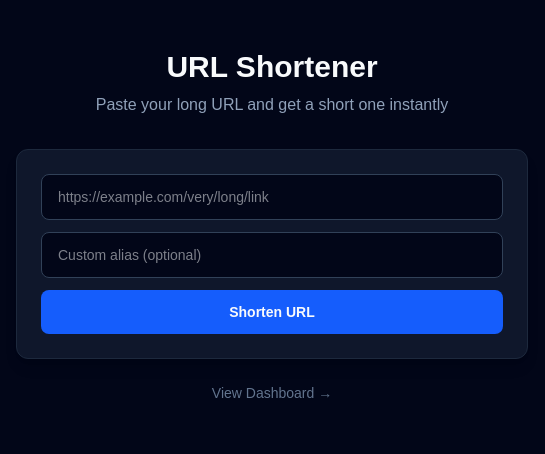
Home page form › shows the short URL after successful submission
Type "https://example.com" into the field with placeholder "https://example.com/very/long/link" at [272, 197], box [41,174,503,220]
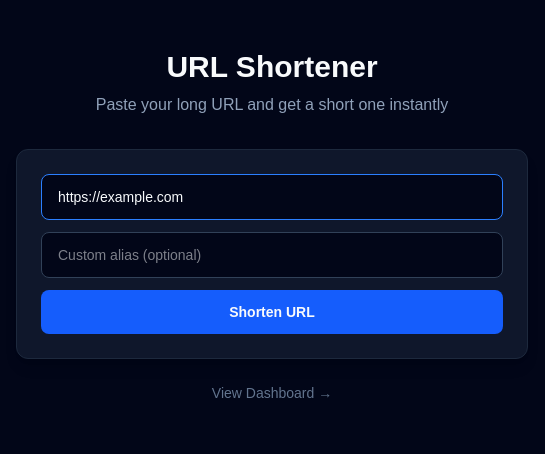
Click the button "Shorten URL" at [272, 312], box [41,290,503,334]
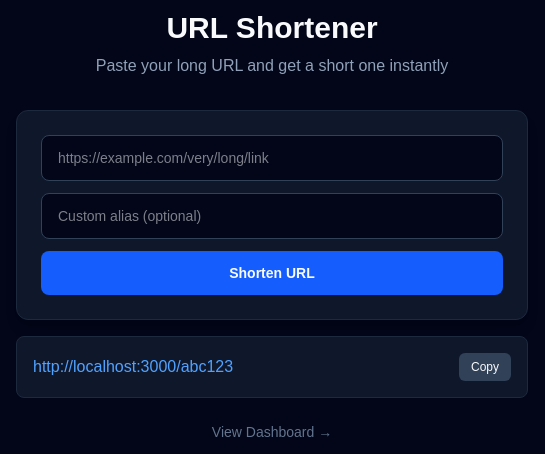
Result: the link "http://localhost:3000/abc123" is shown at [33,355,233,379]
